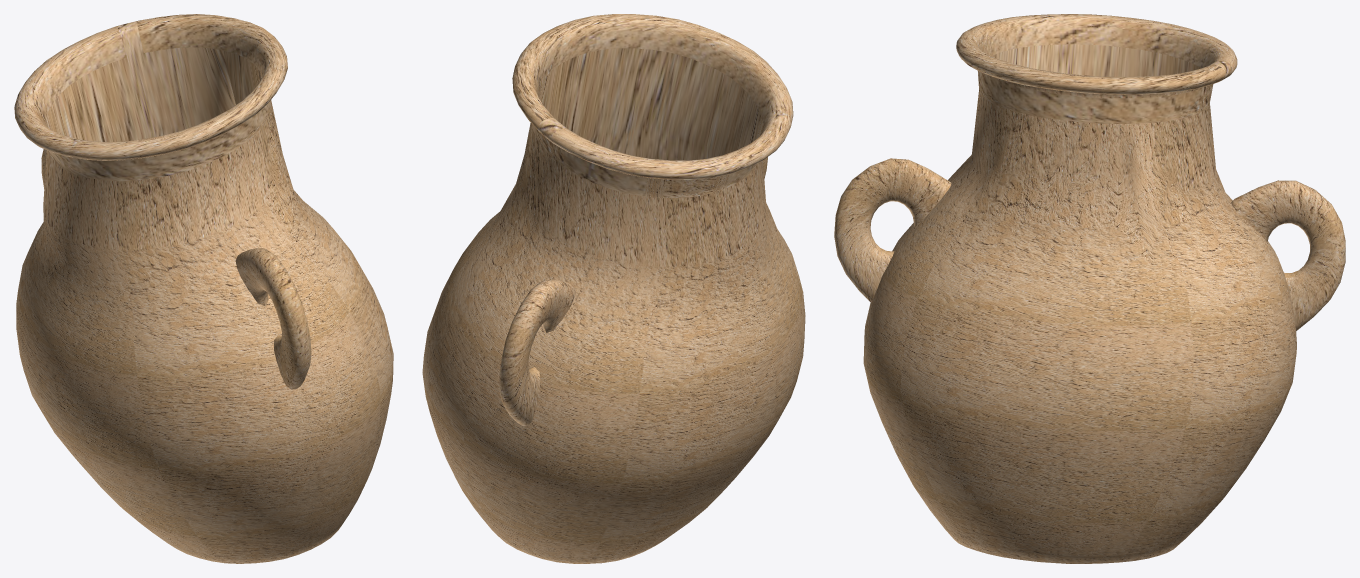
Rendered from goza_gosh.glb.
The picture shows the model from 3 angles, left to right: view 1: azimuth 30°, elevation 25°; view 2: azimuth 150°, elevation 25°; view 3: azimuth 270°, elevation 25°; orthographic projection.
Parts seen in each view (by area): view 1: uploads_files_2457244_Ancient+vase, uploads_files_2457244_Ancient+vase.004; view 2: uploads_files_2457244_Ancient+vase, uploads_files_2457244_Ancient+vase.002; view 3: uploads_files_2457244_Ancient+vase, uploads_files_2457244_Ancient+vase.002, uploads_files_2457244_Ancient+vase.004.
Part boxes in pixels (x1,y1,x2,y2): uploads_files_2457244_Ancient+vase: (14, 14, 393, 563); uploads_files_2457244_Ancient+vase.004: (235, 248, 311, 389); uploads_files_2457244_Ancient+vase: (422, 14, 805, 563); uploads_files_2457244_Ancient+vase.002: (499, 279, 575, 426); uploads_files_2457244_Ancient+vase: (863, 14, 1296, 563); uploads_files_2457244_Ancient+vase.002: (1231, 180, 1345, 331); uploads_files_2457244_Ancient+vase.004: (834, 158, 951, 302).
Bounding box in the file's own units: 0.5817 × 0.8417 × 0.7966.
1 material, 1 textured.
